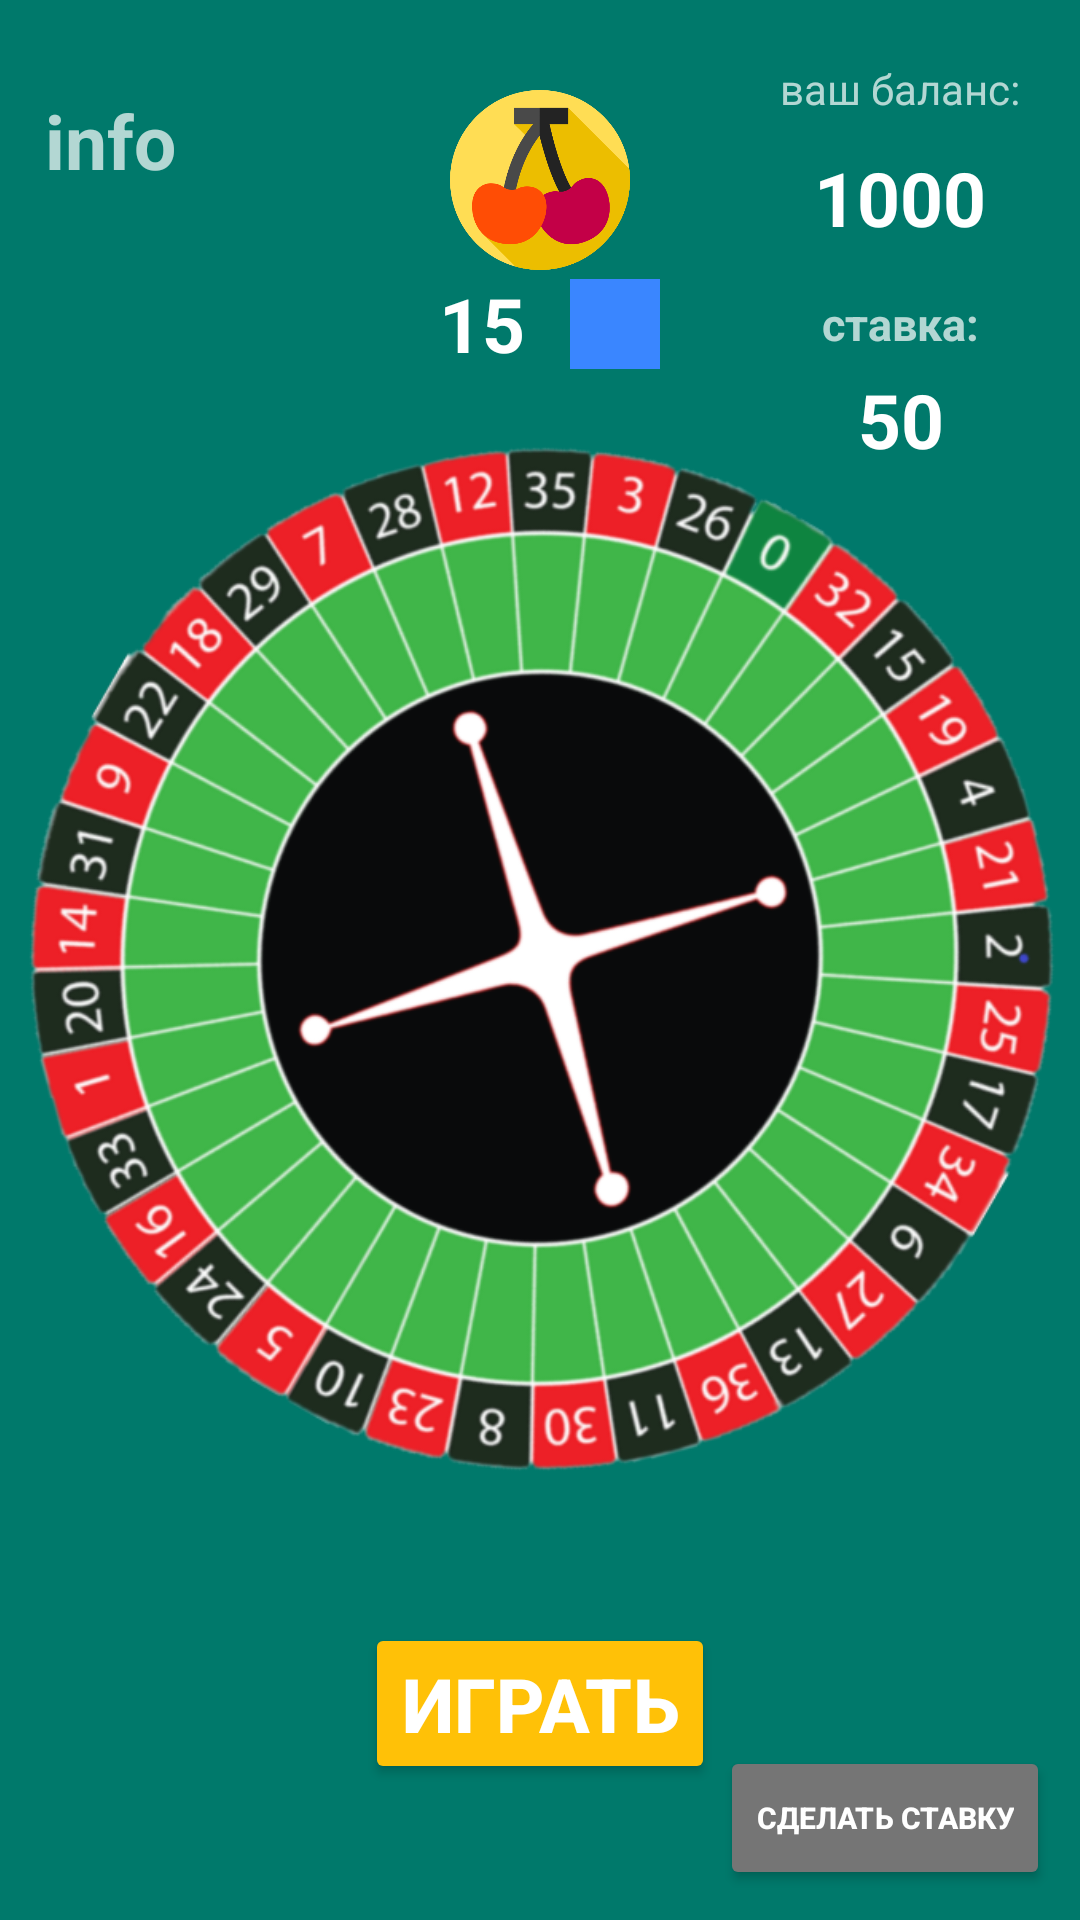

Icons on this 1080w x 1920h Android screen, each with its box as (x1, y1, x2, y2):
cherry: (450, 90, 630, 270)
